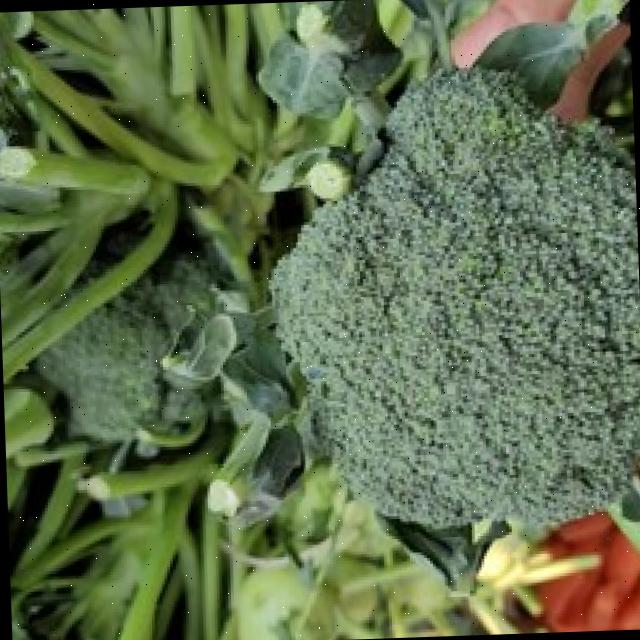Broccoli: (274, 68, 640, 524), (36, 257, 211, 440), (37, 257, 211, 440)
